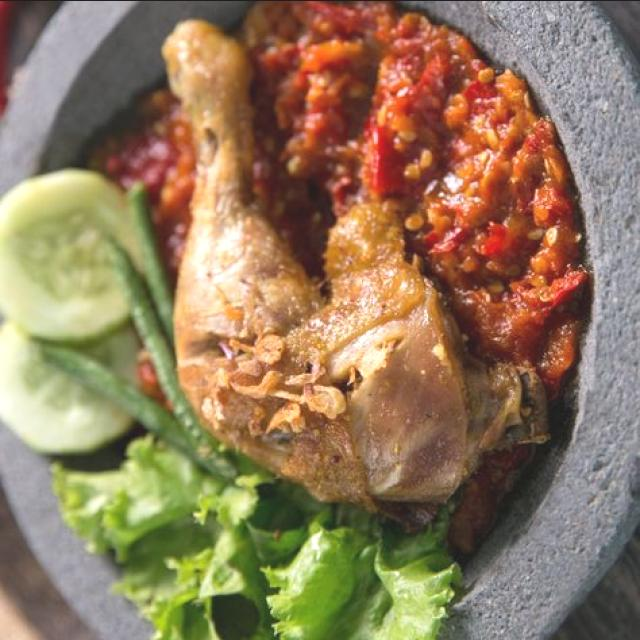ayam goreng: (163, 18, 470, 531)
